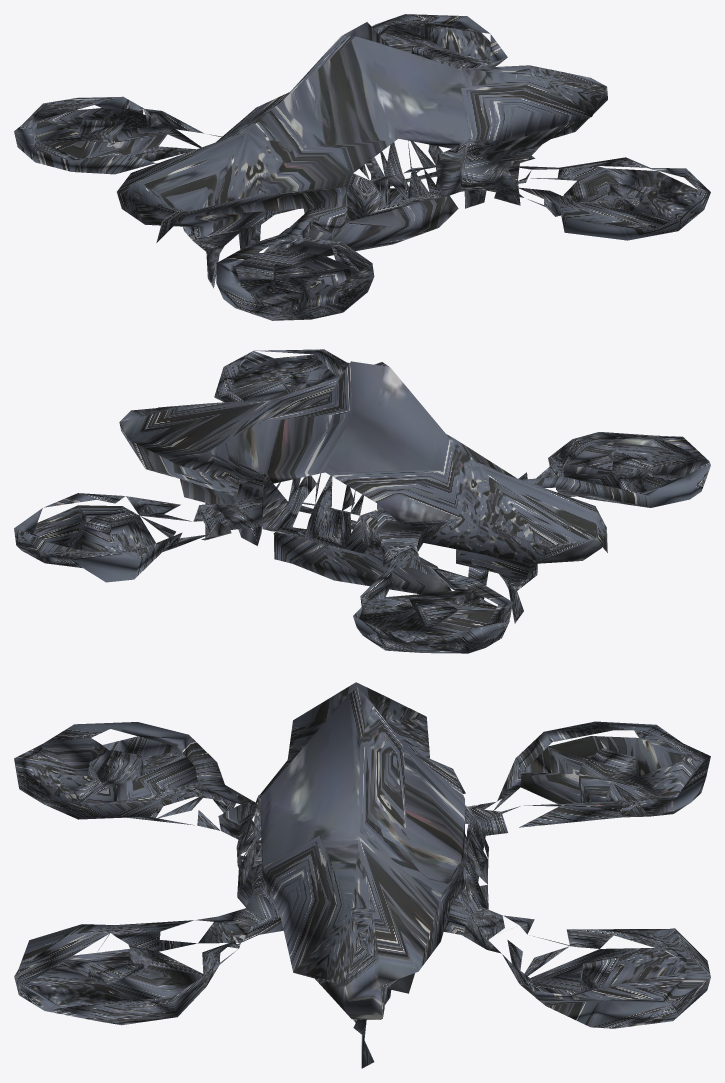
File: seeker.m.glb
3 renders of one model, top to bottom at view 1: azimuth 30°, elevation 25°; view 2: azimuth 150°, elevation 25°; view 3: azimuth 270°, elevation 25°, orthographic. The views are drawn at different scales.
Parts seen in each view (by area): view 1: Object_4; view 2: Object_4; view 3: Object_4.
Part boxes in pixels (box(x1,y1,x2,y2)): Object_4: box(14, 14, 710, 320); Object_4: box(14, 349, 710, 653); Object_4: box(14, 682, 710, 1068).
Bounding box in the file's own units: 0.9892 × 0.4466 × 0.9965.
1 material, 1 textured.
